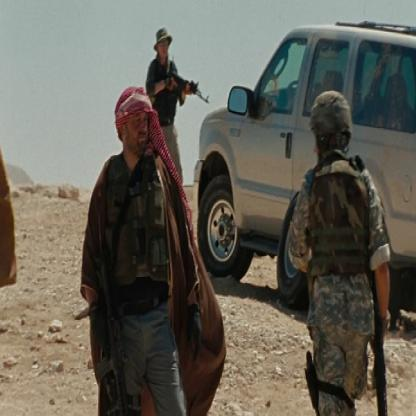Guns: (88, 245, 133, 415), (369, 264, 391, 414), (163, 66, 212, 115)
